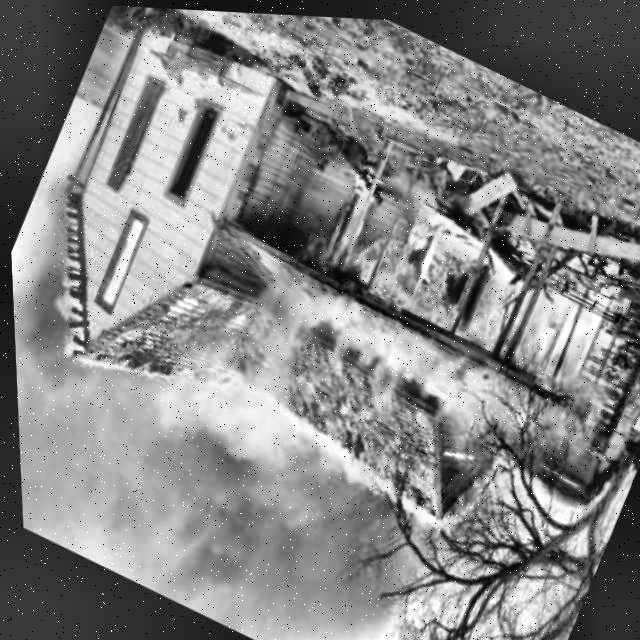Fire: (294, 134, 640, 406), (262, 403, 475, 541), (6, 182, 149, 367), (100, 268, 255, 417)
Smoke: (11, 306, 437, 640)
